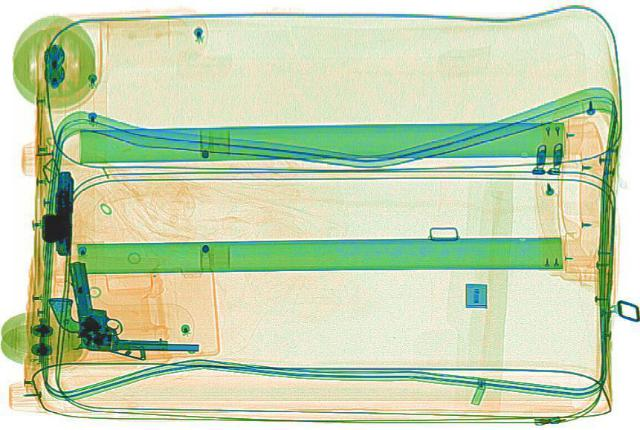Gun: (70, 258, 198, 353), (34, 165, 82, 255)
